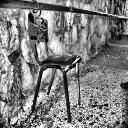chair_success: (22, 8, 88, 125)
